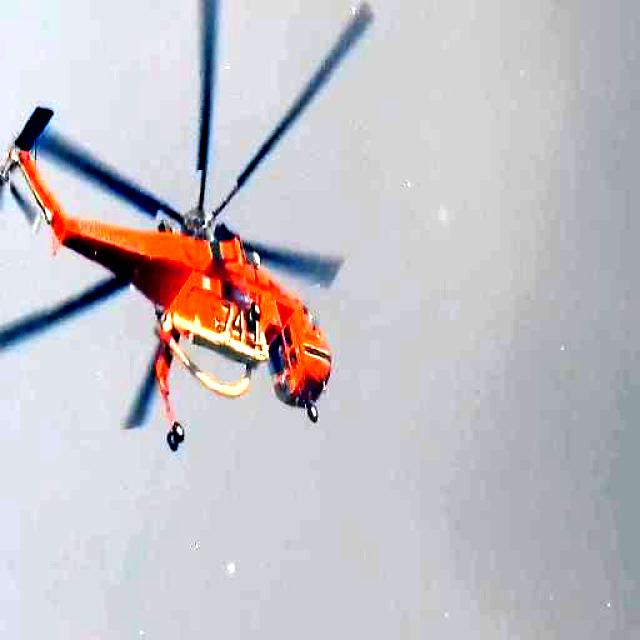drone: (0, 0, 375, 460)
